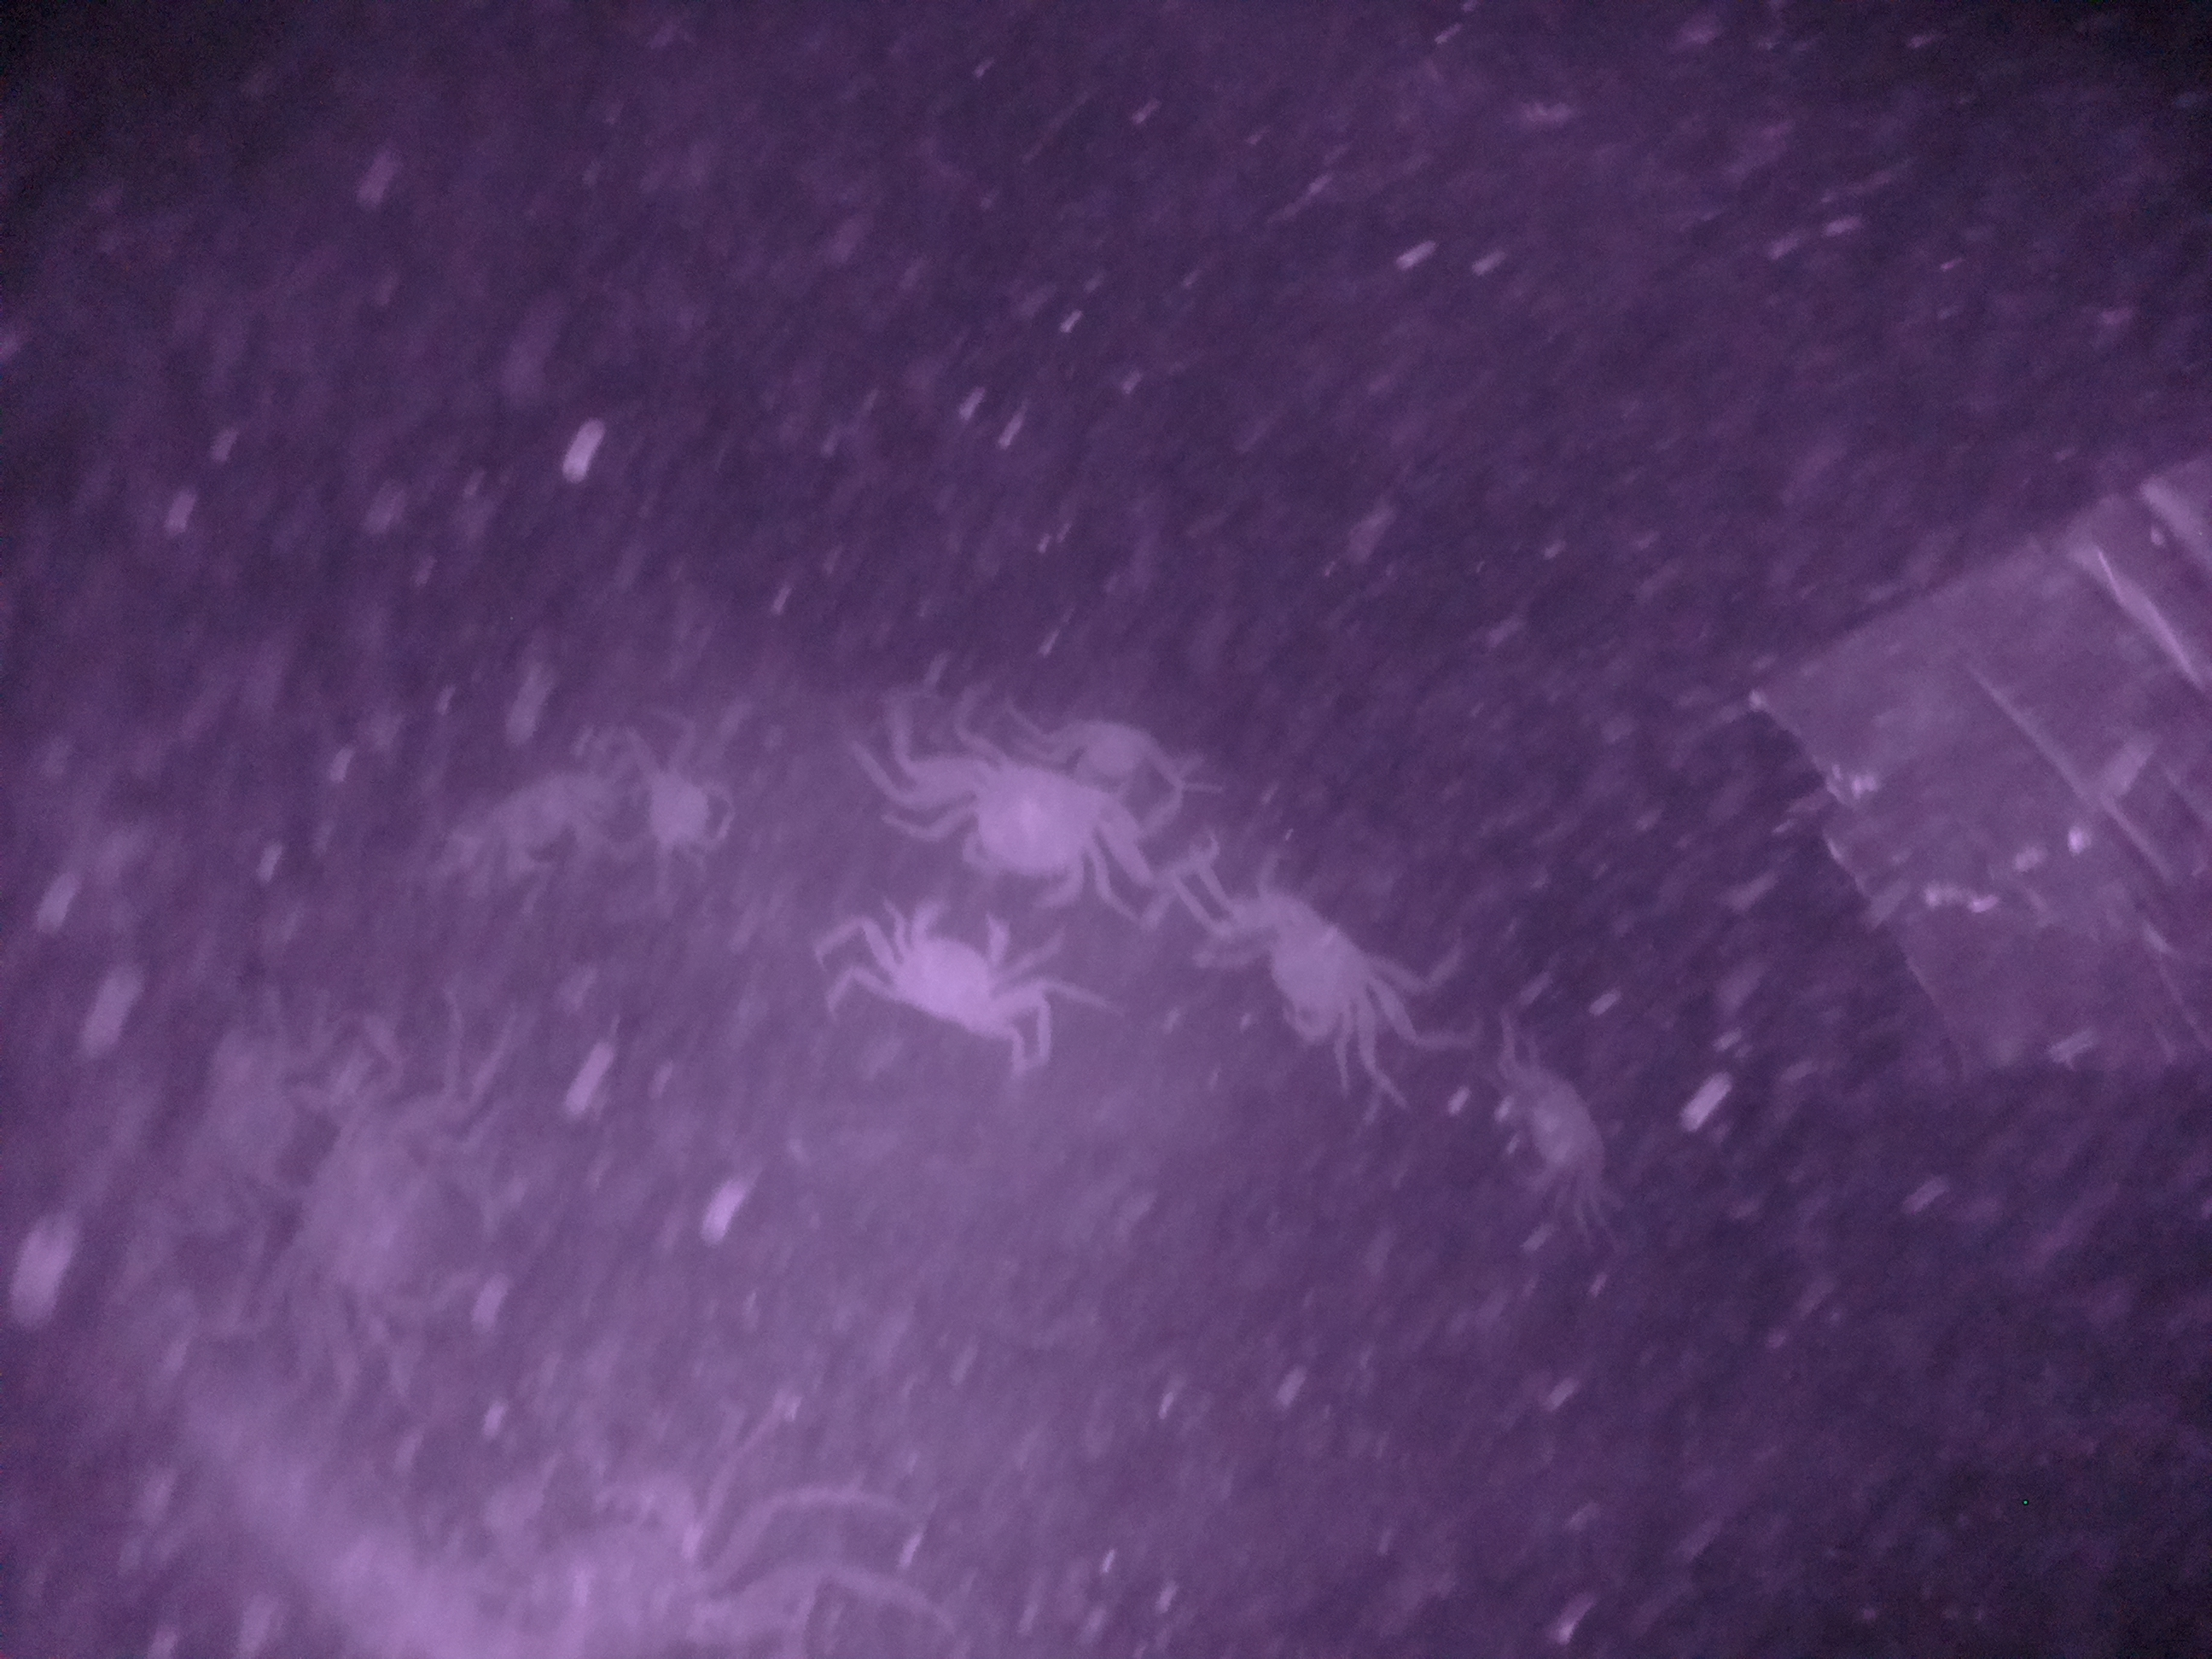Crab: (864, 894, 1024, 1042)
